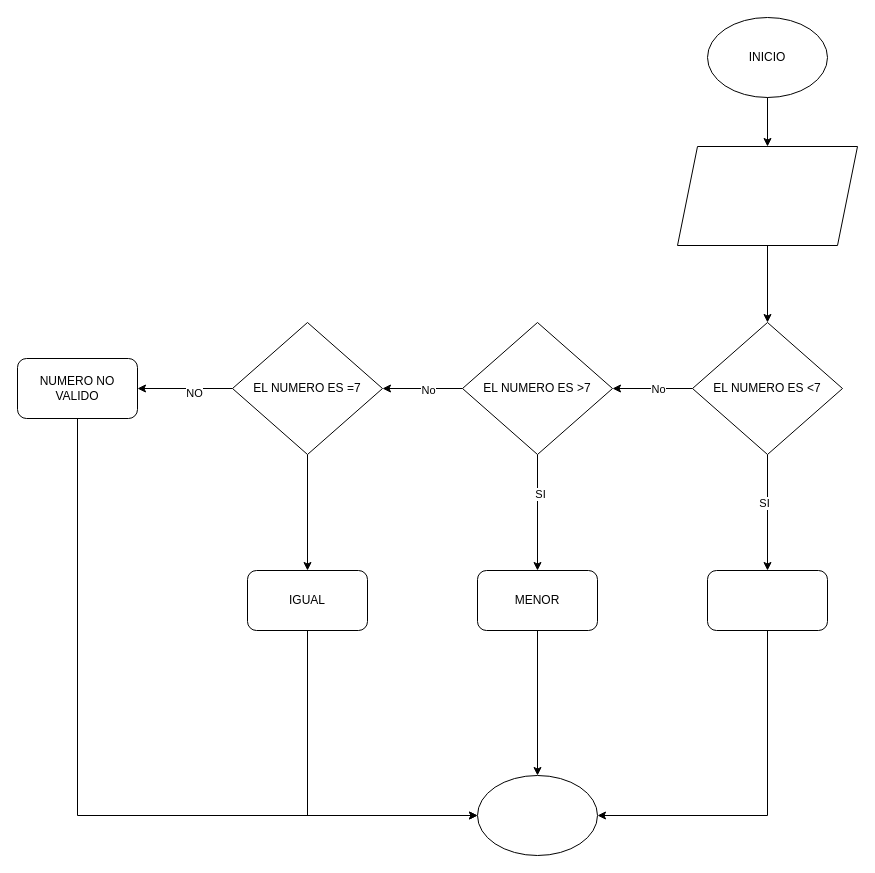
Image size: 875x873. Some labels were removed from this diagram. Here are the shapes that lost their labels. From the top down, the box of each, then its label:
(676, 146, 858, 246): INGRESE UN NUMERO
(706, 570, 828, 630): MAYOR
(476, 774, 598, 856): FIN
